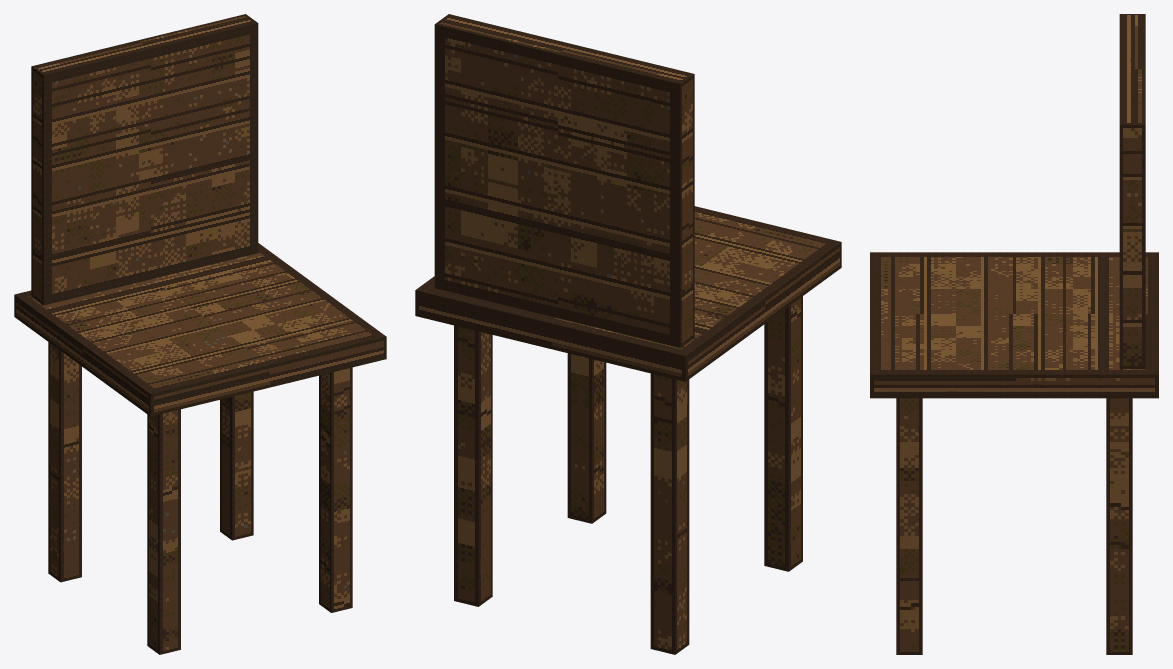
The model's file is SM_Chair_Wood_01.glb.
3 views of the same model, side by side, from view 1: azimuth 30°, elevation 25°; view 2: azimuth 150°, elevation 25°; view 3: azimuth 270°, elevation 25° (orthographic). The views are drawn at different scales.
Parts seen in each view (by area): view 1: SM_Chair_Wood_01; view 2: SM_Chair_Wood_01; view 3: SM_Chair_Wood_01.
Part boxes in pixels (left/top/right/bottom): SM_Chair_Wood_01: left=14, top=14, right=386, bottom=654; SM_Chair_Wood_01: left=415, top=14, right=841, bottom=654; SM_Chair_Wood_01: left=870, top=14, right=1158, bottom=654.
Bounding box in the file's own units: 0.44 × 0.9 × 0.44.
Materials: 1 (1 with a texture image).
